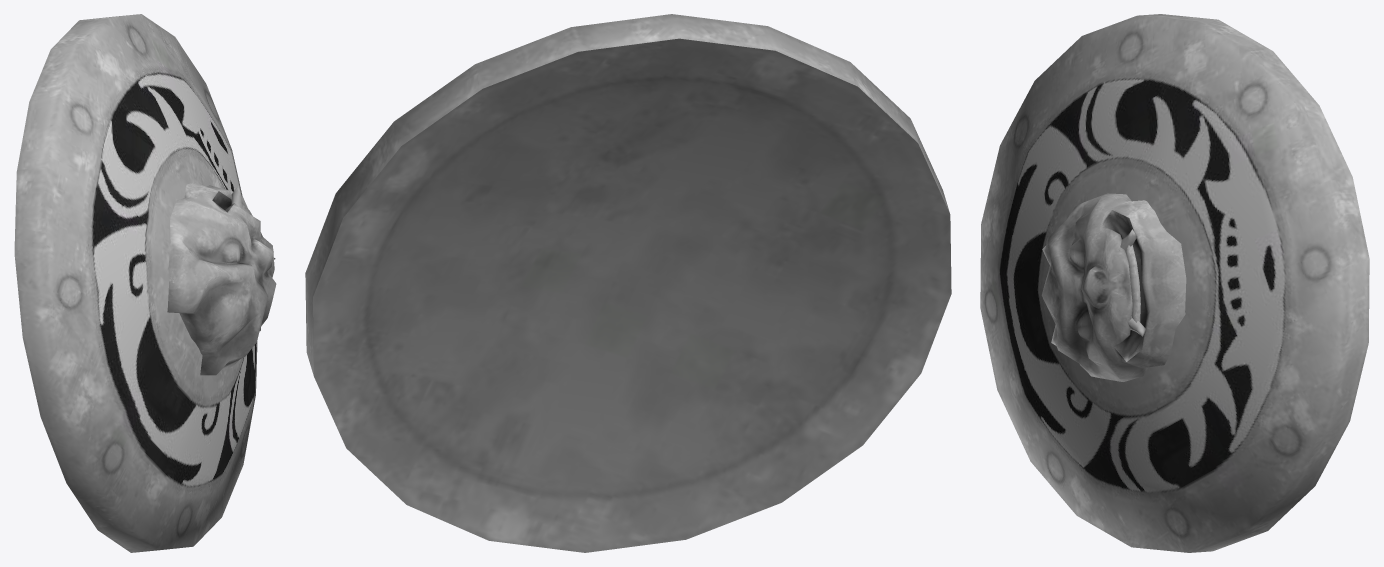
File: shield-ironshields.glb
3 renders of one model, left to right at view 1: azimuth 30°, elevation 25°; view 2: azimuth 150°, elevation 25°; view 3: azimuth 270°, elevation 25°, orthographic. The views are drawn at different scales.
Size of the model in its own units: 0.4643 by 0.5634 by 0.4142.
Materials: 1 (1 with a texture image).
